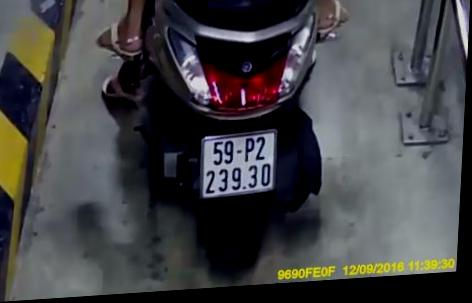License_Plate: (191, 124, 286, 206)
